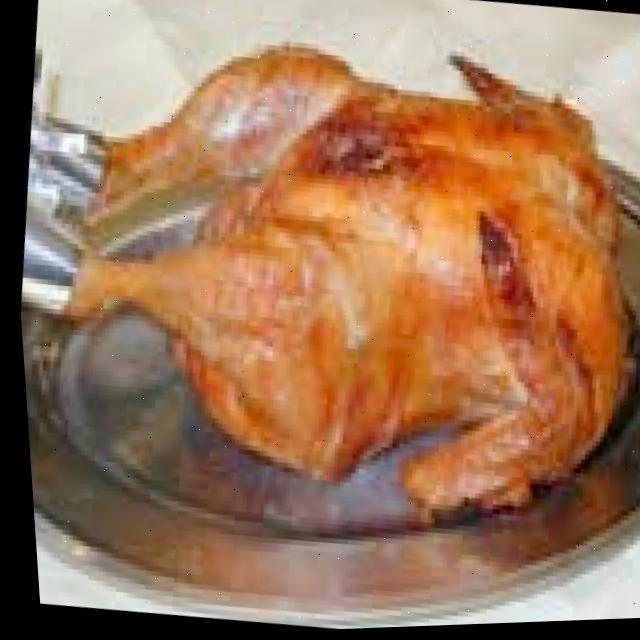鸡肉料理 含炸鸡: (1, 0, 640, 565)
